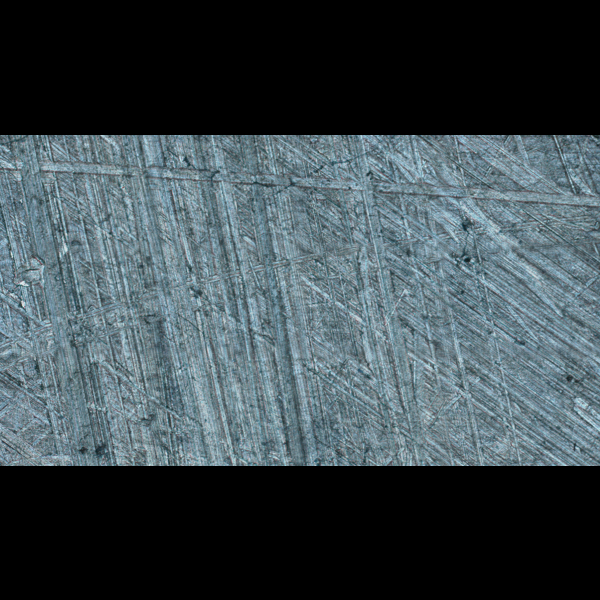d: (0, 205, 599, 378), (295, 134, 433, 464), (0, 143, 599, 214)
